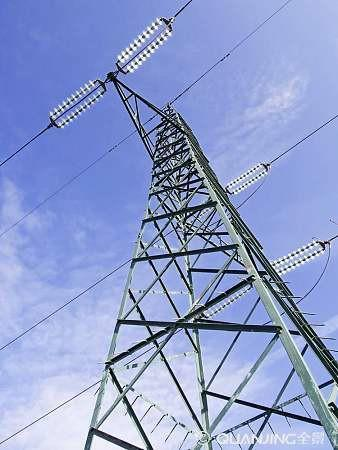power_tower: (92, 91, 338, 450)
